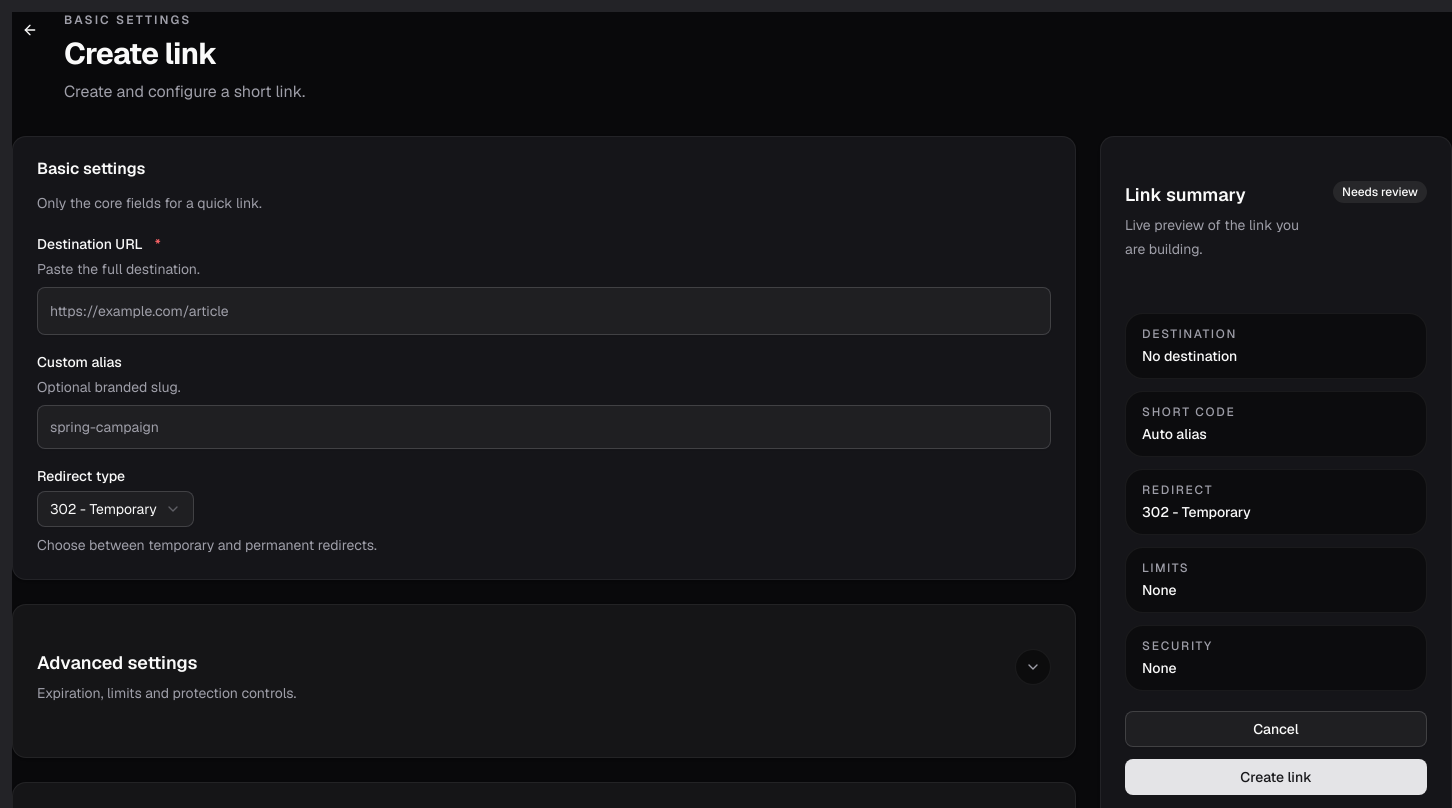
Dashboard link forms › keeps advanced create fields collapsed by default and updates the live summary
Type "https://example.com/articles/mobile-dashboard" into the field with id "url" at (544, 311), box left=37, top=287, right=1051, bottom=335
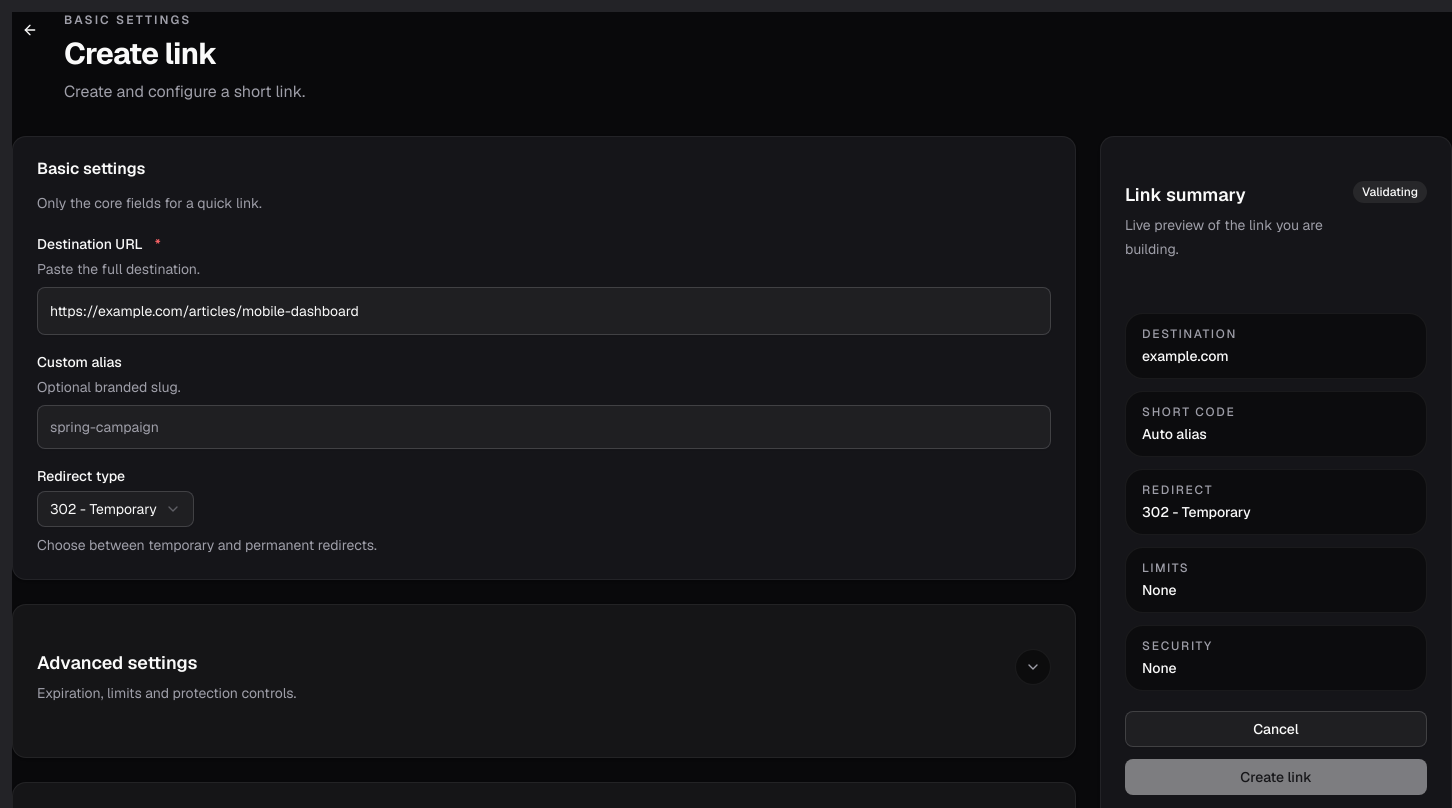
Type "spring-launch" into the field with id "customAlias" at (544, 427), box left=37, top=405, right=1051, bottom=449
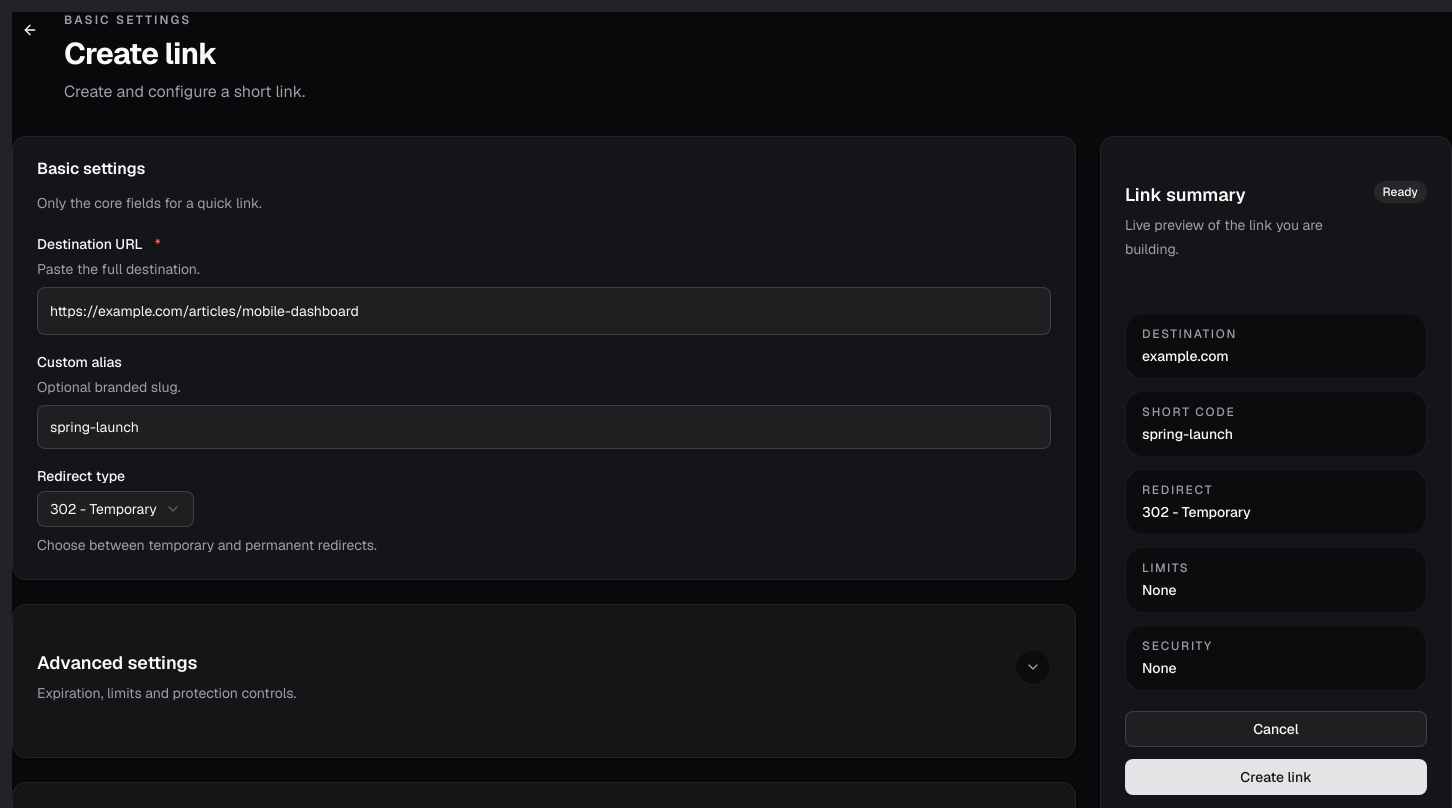
Check: the button "Advanced settings" is shown, box left=13, top=629, right=1075, bottom=725
Check: the text "example.com" is shown, box left=1142, top=347, right=1229, bottom=365
Check: the text "spring-launch" is shown, box left=1142, top=425, right=1233, bottom=443
